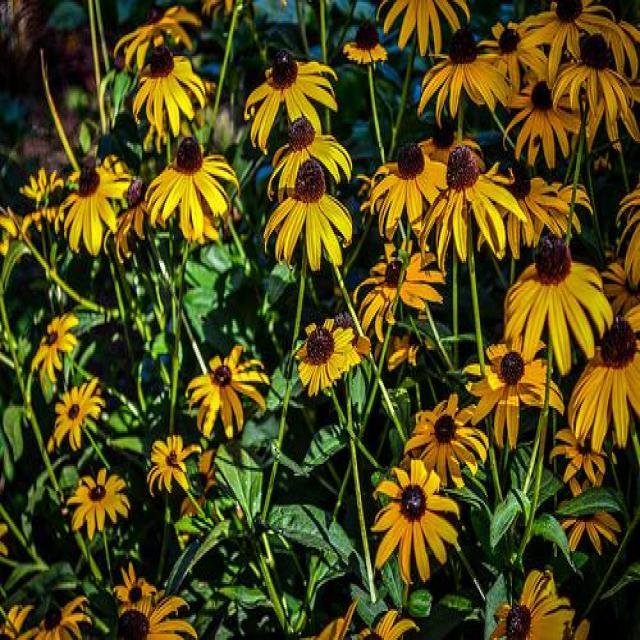sunflower: (503, 232, 612, 372), (370, 454, 461, 585), (463, 337, 567, 448), (424, 147, 522, 263), (261, 160, 355, 270), (568, 306, 640, 449), (351, 237, 446, 339), (242, 52, 338, 151), (148, 139, 236, 244), (420, 29, 511, 127), (369, 144, 451, 251), (353, 242, 445, 336), (182, 342, 270, 439), (506, 56, 582, 164), (404, 394, 488, 486), (552, 32, 638, 121), (59, 153, 133, 254), (478, 173, 564, 259), (132, 47, 206, 139), (523, 0, 621, 65), (491, 567, 573, 640), (113, 1, 202, 66), (376, 0, 470, 56), (104, 177, 168, 259), (475, 21, 549, 91), (556, 480, 622, 554), (295, 318, 354, 396), (572, 88, 640, 153), (64, 468, 128, 536), (116, 594, 199, 640), (54, 377, 104, 452), (146, 433, 203, 497), (550, 420, 609, 480), (31, 310, 80, 378), (614, 174, 640, 289), (32, 593, 92, 640), (420, 123, 482, 165), (353, 605, 416, 640), (602, 252, 640, 306), (305, 601, 354, 640), (343, 25, 387, 62), (113, 564, 157, 598), (0, 604, 38, 640)
